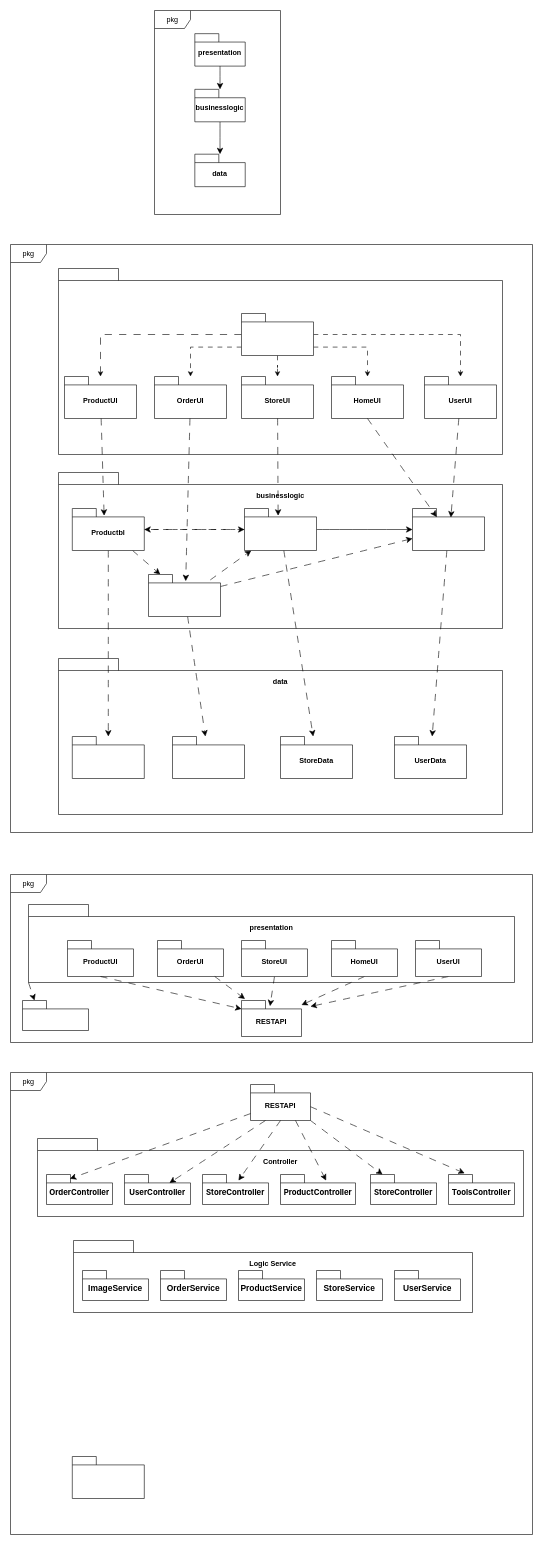
The diagram is 543 pixels wide and 1545 high, and some of its shapes have lost their labels. Each missing label, with the centre of its shape:
mainUI: point (277, 334)
Mysql: point (108, 1477)
Orderbl: point (184, 595)
OrderData: point (208, 757)
ProductData: point (108, 757)
Storebl: point (280, 529)
Userbl: point (448, 529)
VO: point (55, 1015)
